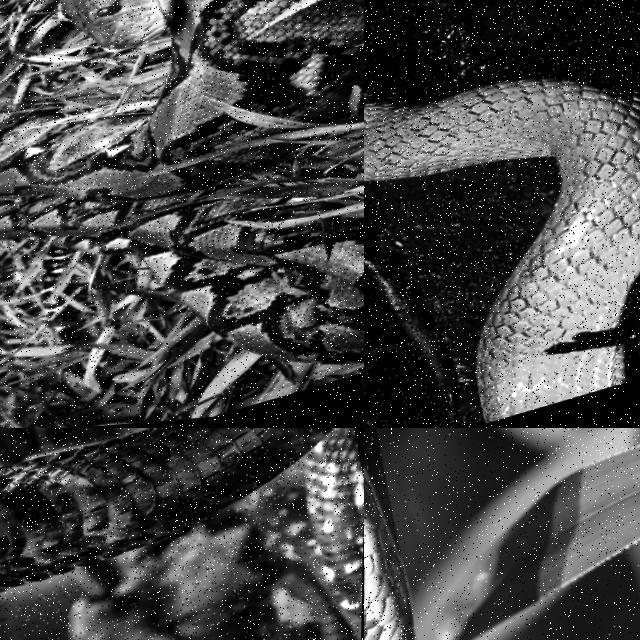Malayopython reticulatus: (0, 0, 363, 363)
Ophiophagus hannah: (0, 428, 363, 639), (364, 471, 412, 639)
Trimeresurus macrops: (364, 77, 639, 422)
